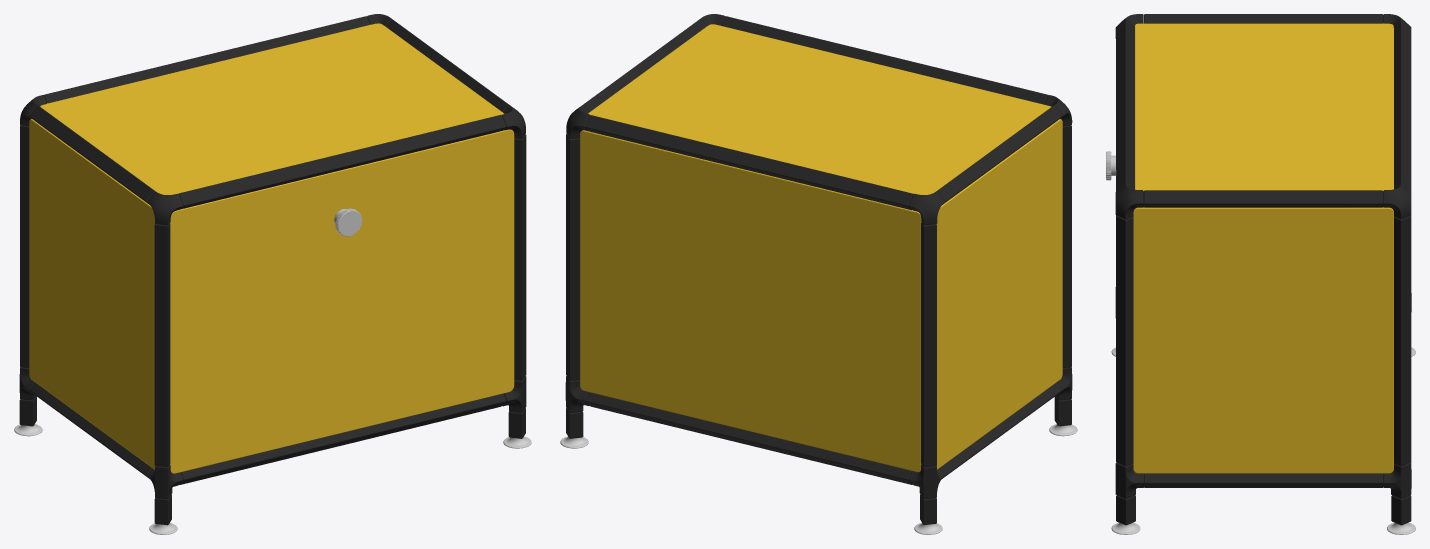
3 views of the same model, side by side, from view 1: azimuth 30°, elevation 25°; view 2: azimuth 150°, elevation 25°; view 3: azimuth 270°, elevation 25° (orthographic). The views are drawn at different scales.
Parts seen in each view (by area): view 1: 523x329x374; view 2: 523x329x374; view 3: 523x329x374.
Part boxes in pixels (x1,y1,x2,y2): 523x329x374: (14, 14, 531, 534); 523x329x374: (560, 14, 1077, 534); 523x329x374: (1106, 14, 1415, 534).
Size of the model in its own units: 0.6129 by 0.5132 by 0.4258.
